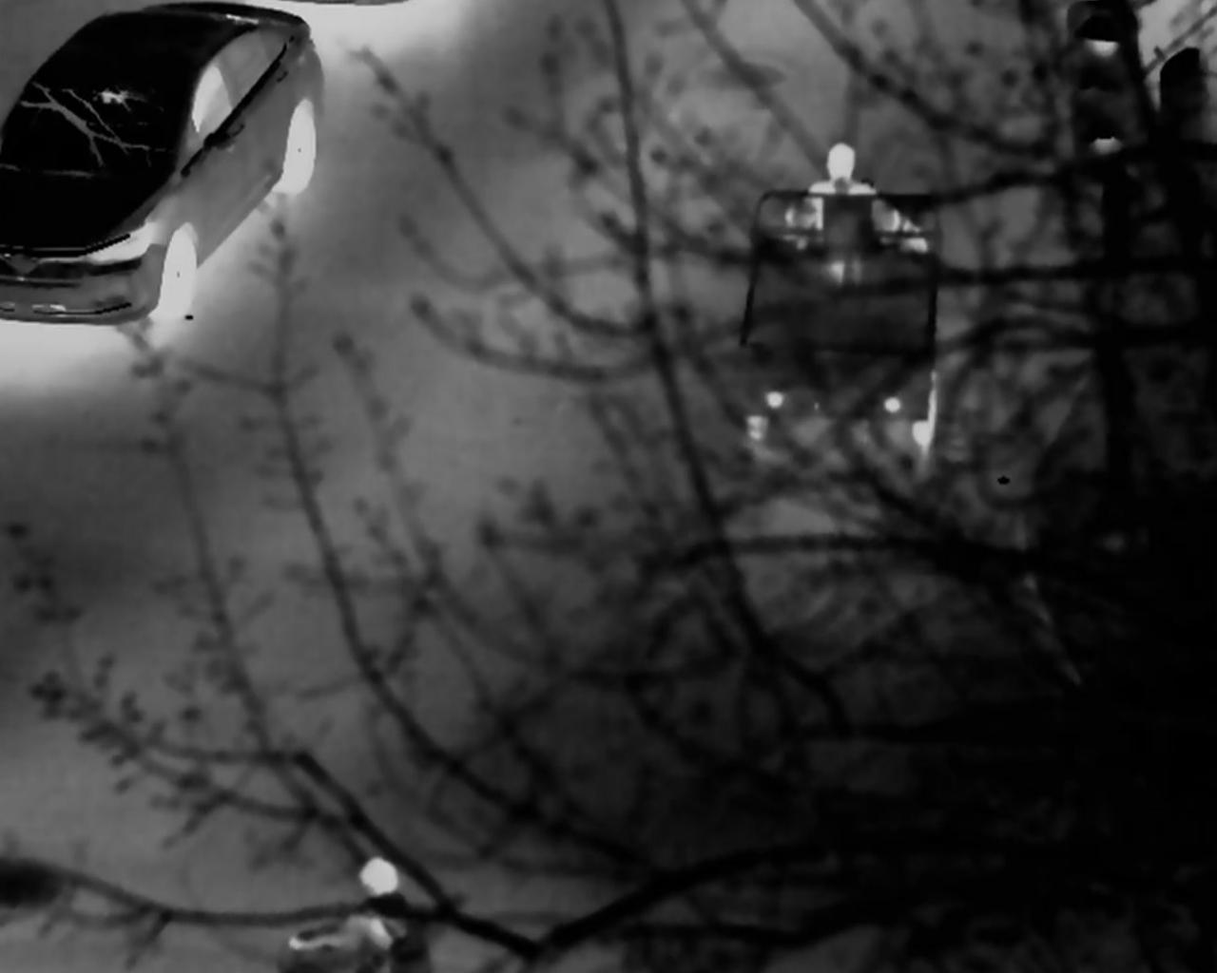person: (802, 141, 897, 268), (300, 861, 425, 957)
